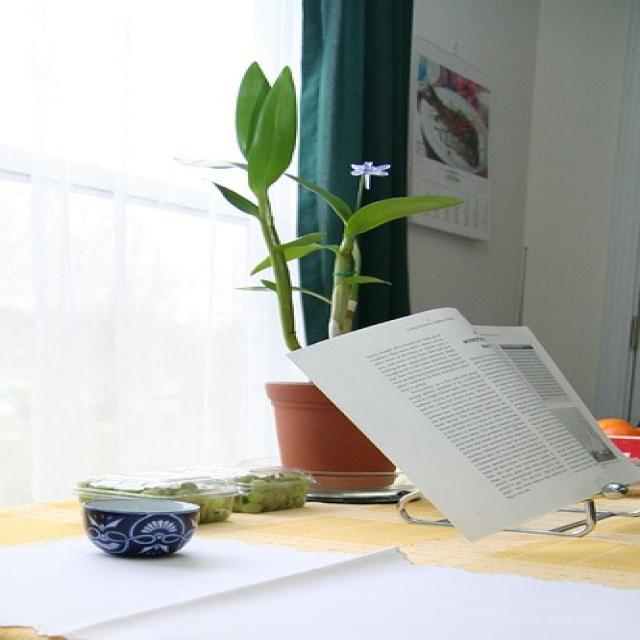pottedplant: (169, 61, 467, 503)
